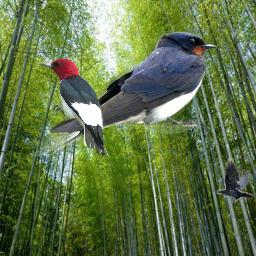Crow: (216, 158, 253, 203)
Swallow: (28, 31, 218, 163)
Woodpecker: (36, 58, 110, 156)
